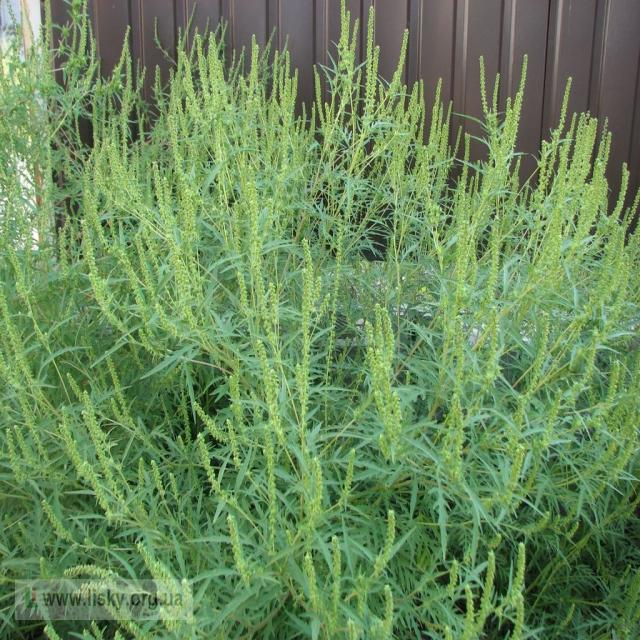ambrosia: (79, 131, 278, 359), (26, 372, 250, 556), (476, 68, 640, 319), (321, 21, 453, 234), (353, 292, 424, 472), (460, 520, 559, 640)
